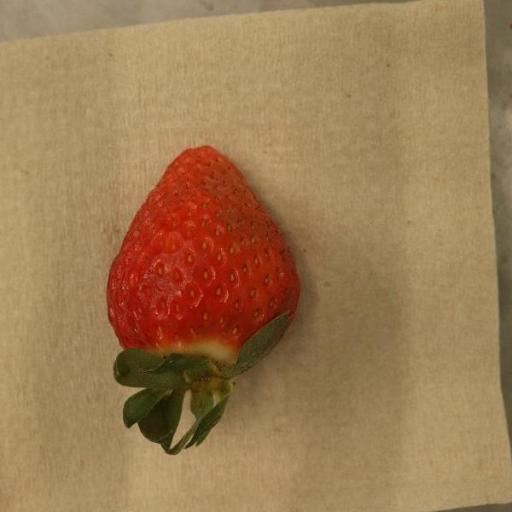Strawberry: (107, 146, 301, 457)
